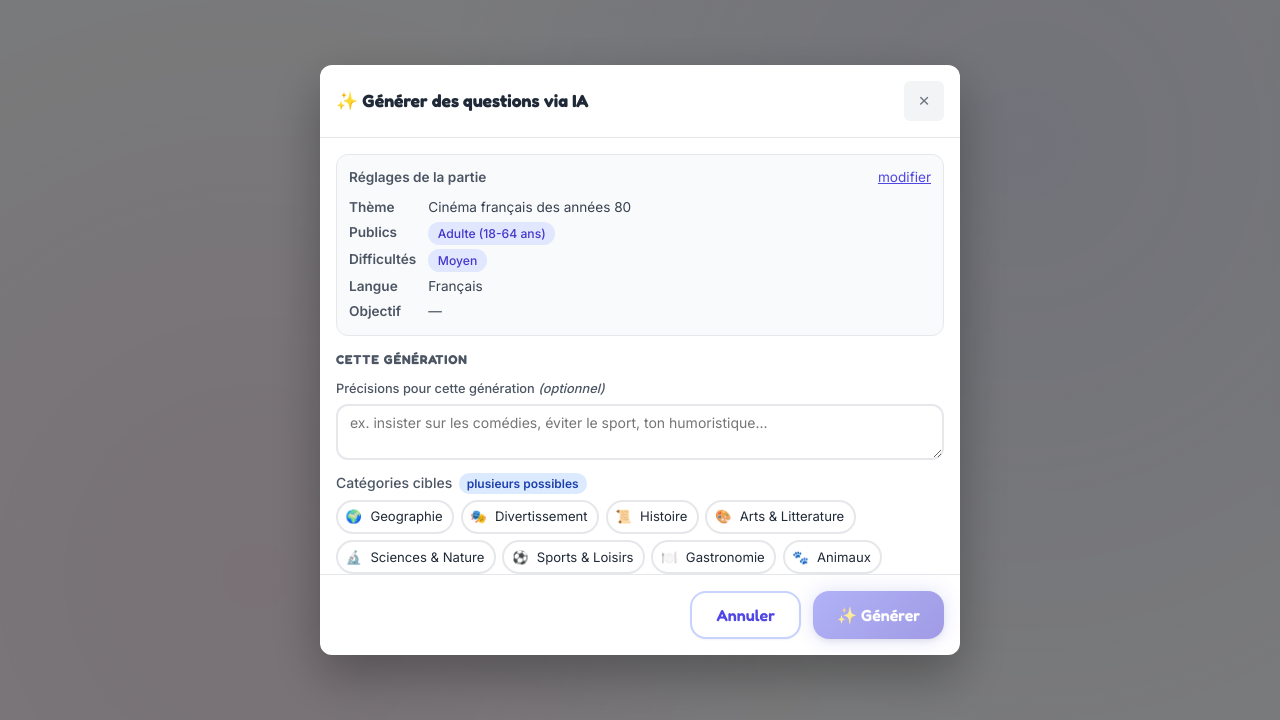
Test: AIGenerateModal — formulaire (maquette §2, retour QUALIF v6.0.7) › "✨ Générer" becomes enabled once a category is selected
Click the text "Divertissement" at (541, 517), box [495,506,588,527]
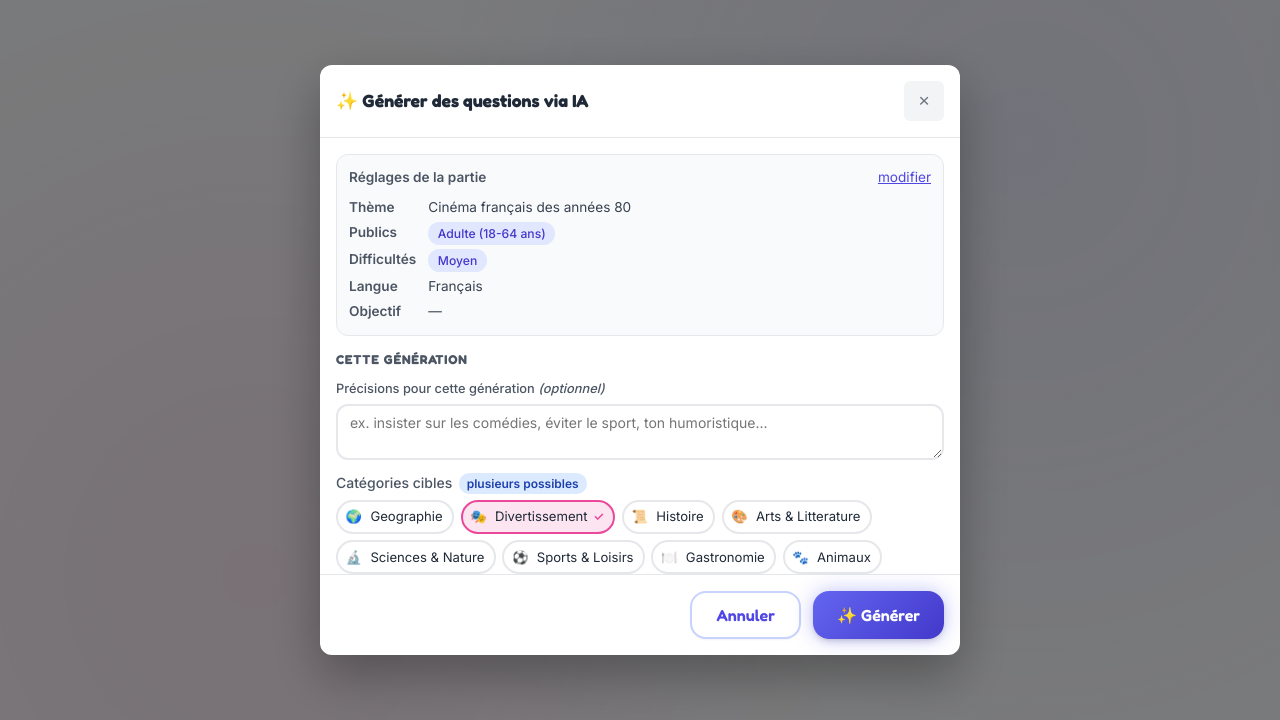
Expected: the button "✨ Générer" is enabled, [813,591,944,639]
